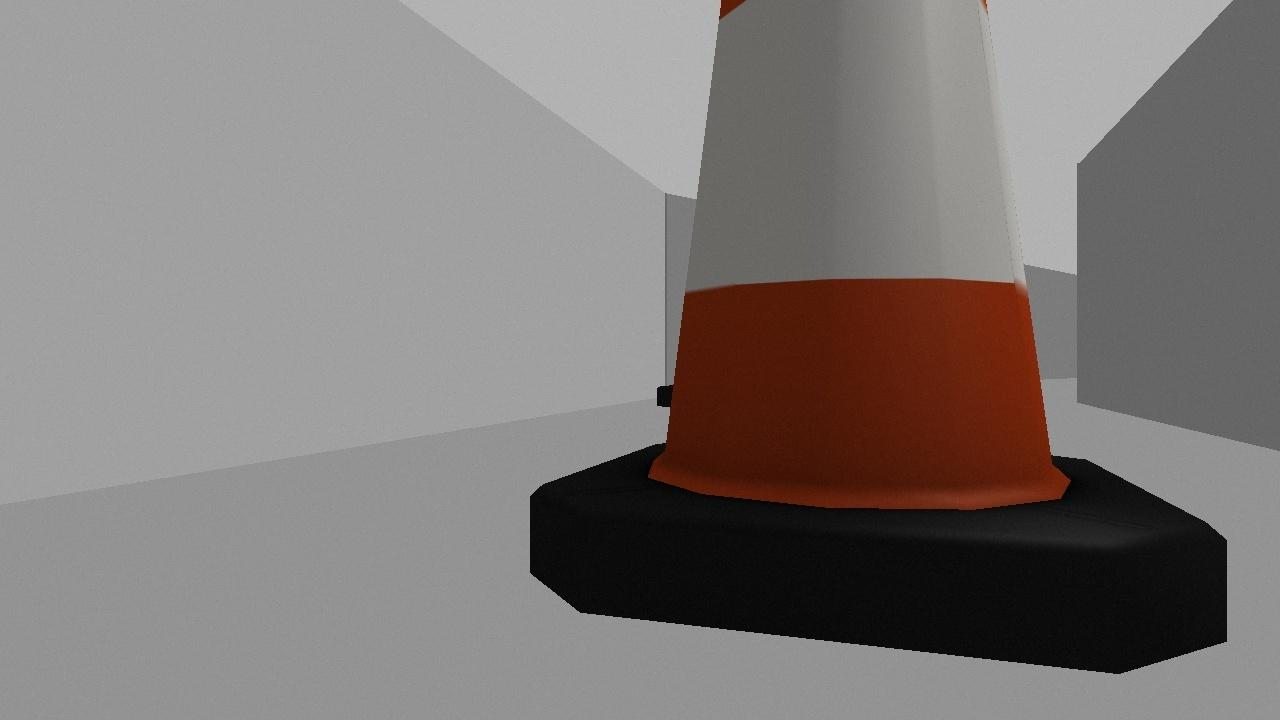cone_barrel: (529, 0, 1226, 676)
